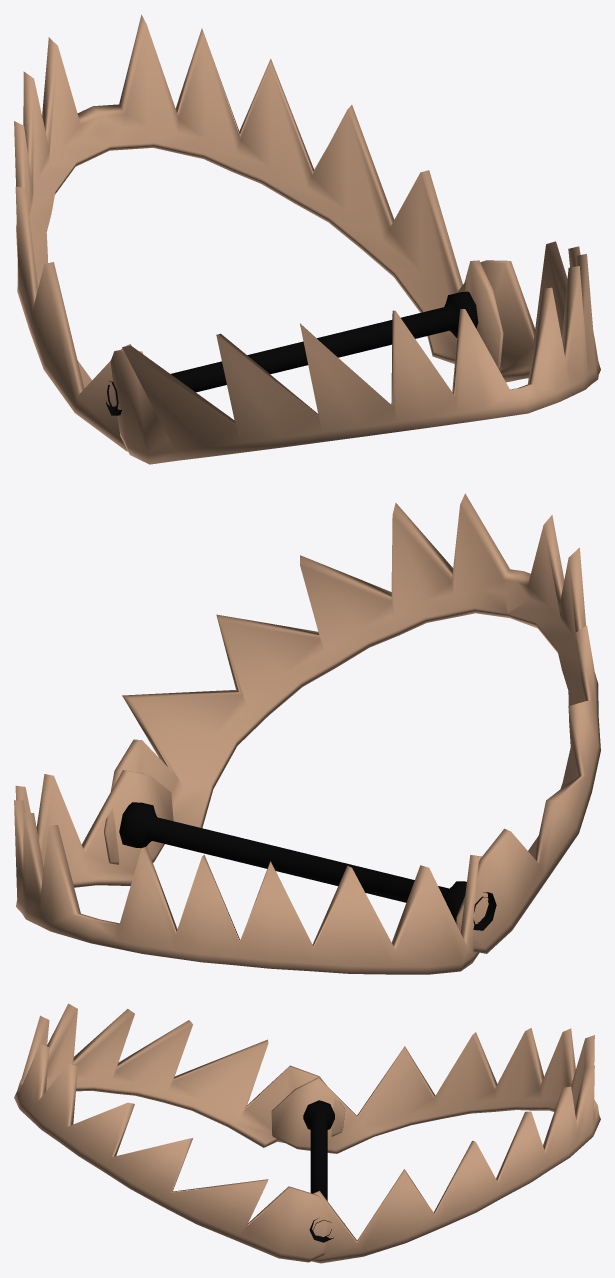
Rendered from Piege.fbx.
3 renders of one model, top to bottom at view 1: azimuth 30°, elevation 25°; view 2: azimuth 150°, elevation 25°; view 3: azimuth 270°, elevation 25°, orthographic. The views are drawn at different scales.
Visible parts, largest first — view 1: MSH_Piege_inf, MSH_Piege_sup; view 2: MSH_Piege_sup, MSH_Piege_inf; view 3: MSH_Piege_sup, MSH_Piege_inf.
Boxes of the visible parts, bbox=[...] form: MSH_Piege_inf: bbox=[14, 14, 503, 451]; MSH_Piege_sup: bbox=[110, 241, 600, 464]; MSH_Piege_sup: bbox=[104, 493, 600, 953]; MSH_Piege_inf: bbox=[14, 770, 496, 974]; MSH_Piege_sup: bbox=[14, 1003, 345, 1262]; MSH_Piege_inf: bbox=[271, 1028, 600, 1263].
Size of the model in its own units: 76.22 by 44.3 by 133.
